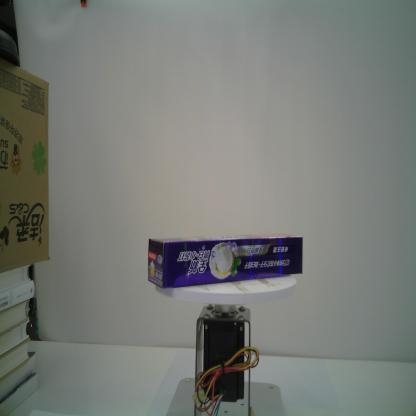Personal Hygiene: (147, 228, 305, 290)
